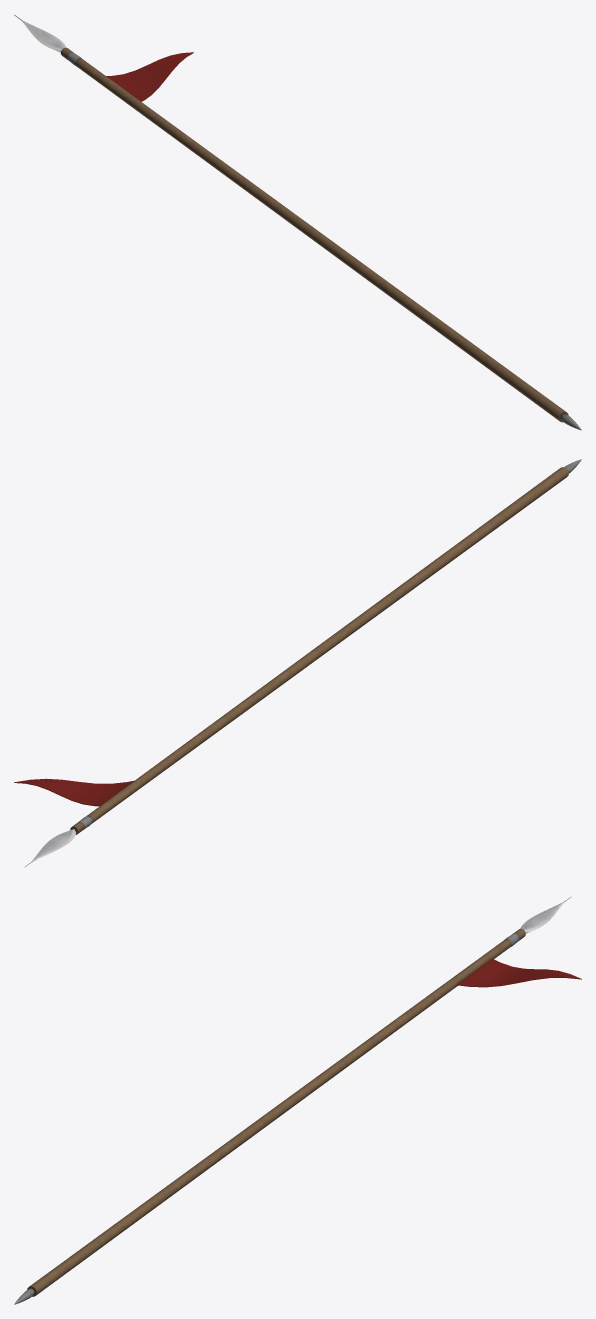
The model's file is bandon_lance.glb.
3 renders of one model, top to bottom at view 1: azimuth 30°, elevation 25°; view 2: azimuth 150°, elevation 25°; view 3: azimuth 330°, elevation 25°, orthographic.
Visible parts, largest first — view 1: bandon_lance; view 2: bandon_lance; view 3: bandon_lance.
Boxes of the visible parts, x1,y1,x2,y2 form: bandon_lance: [14, 14, 581, 430]; bandon_lance: [14, 459, 581, 867]; bandon_lance: [14, 896, 581, 1304].
Size of the model in its own units: 0.3538 by 0.0333 by 3.35.
Materials: 1 (1 with a texture image).
